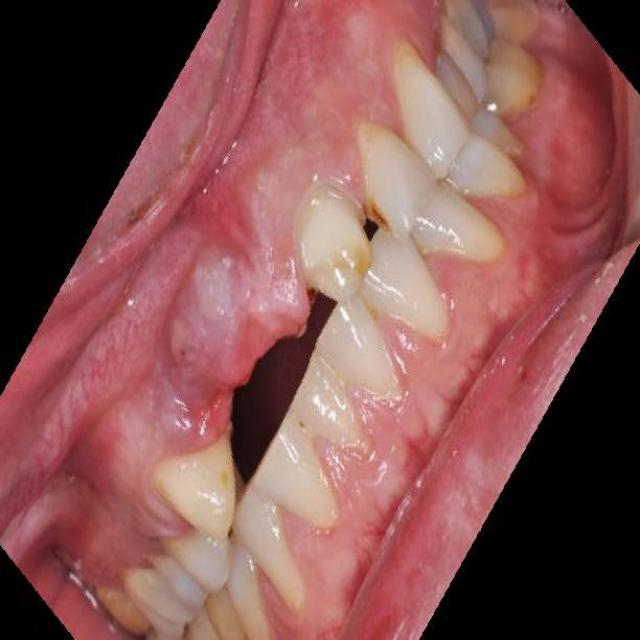caries: (364, 183, 405, 244)
